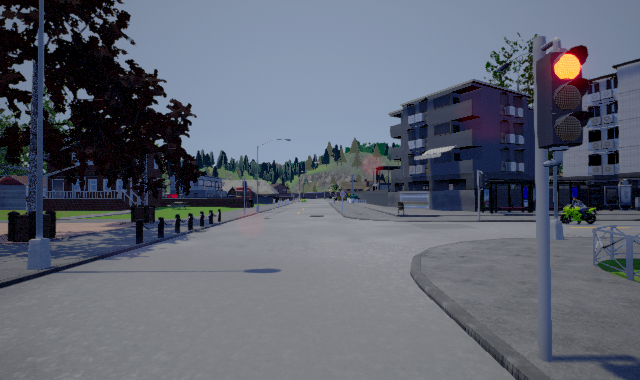traffic_light: (536, 44, 591, 148)
vehicle: (560, 204, 597, 224)
